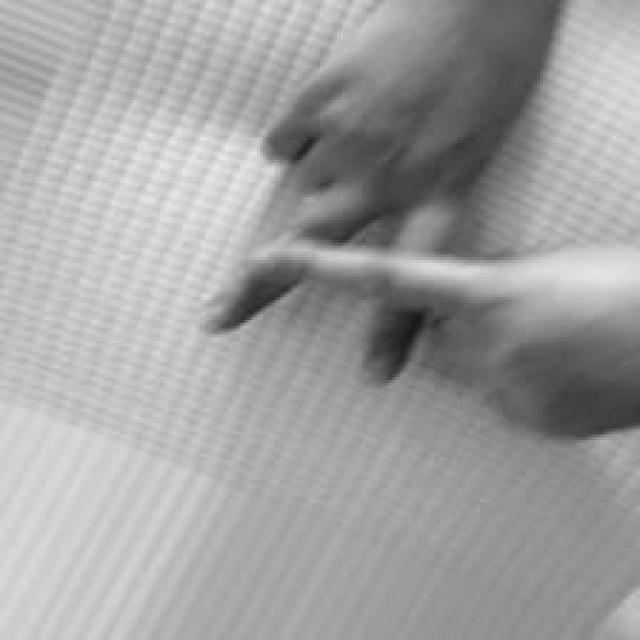A: (194, 0, 640, 437)
